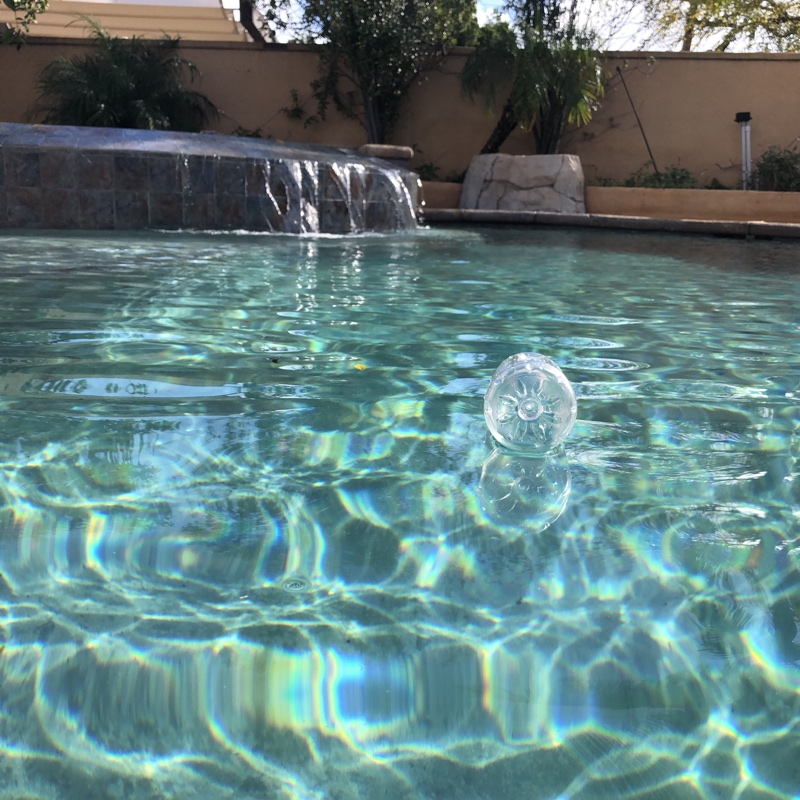Plastic Bottle: (481, 350, 578, 463)
